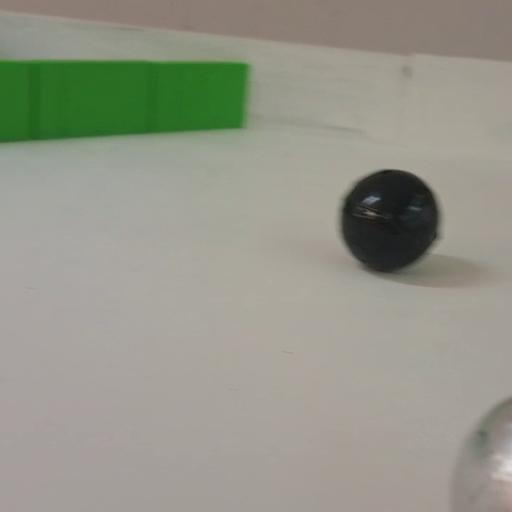alive: (435, 391, 512, 512)
dead: (331, 162, 443, 278)
